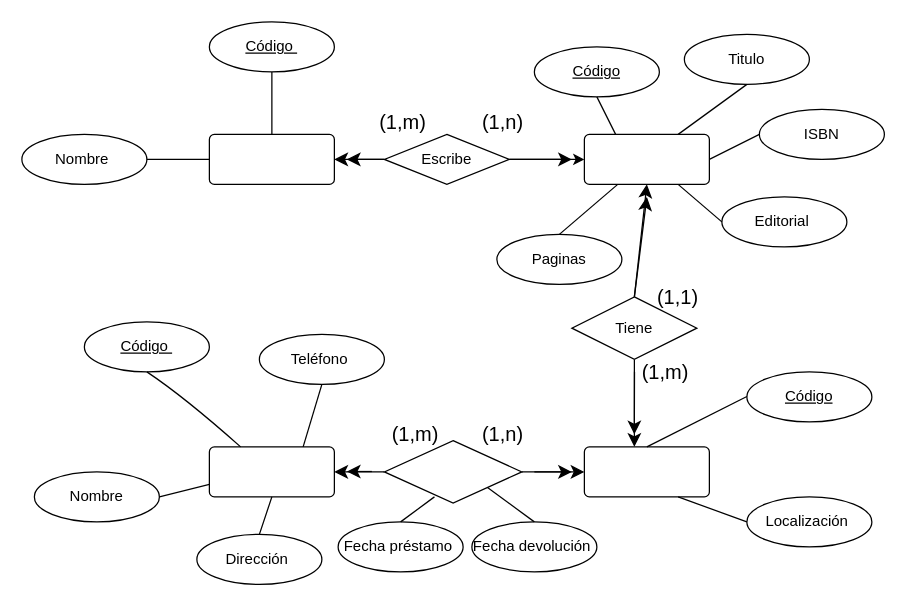
Image size: 906x606. Some labels were removed from this diagram. The centre of each missing label's shape, as x and y in pixels:
"Autor" goes at point 271,158.
"Ejemplar" goes at point 646,471.
"Libro" goes at point 646,158.
"Saca" goes at point 452,471.
"Usuario" goes at point 271,471.
